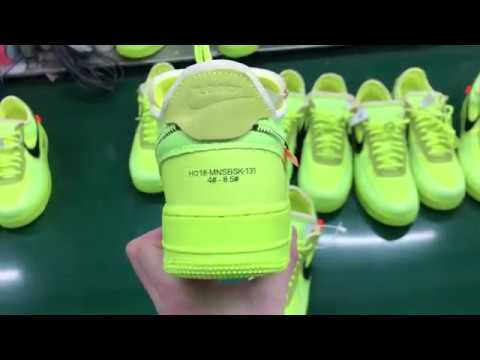Air Force One Volt: (152, 56, 302, 286), (344, 75, 425, 233), (1, 92, 65, 233)
